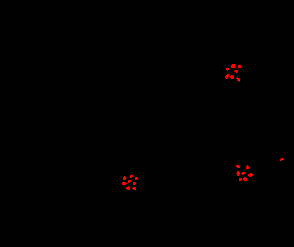Target: (225, 74, 229, 79), (236, 77, 240, 82), (236, 171, 240, 176), (248, 173, 253, 177), (231, 64, 235, 68), (230, 75, 234, 79), (243, 177, 247, 181), (126, 186, 130, 190), (122, 182, 127, 185), (234, 70, 238, 73), (280, 158, 284, 161), (236, 165, 240, 168), (246, 165, 249, 169), (241, 172, 245, 175), (123, 176, 126, 180), (132, 187, 136, 190), (238, 65, 241, 68), (226, 68, 229, 71), (130, 175, 133, 178), (135, 177, 138, 180), (239, 178, 242, 181), (128, 180, 131, 183), (133, 182, 136, 185)
